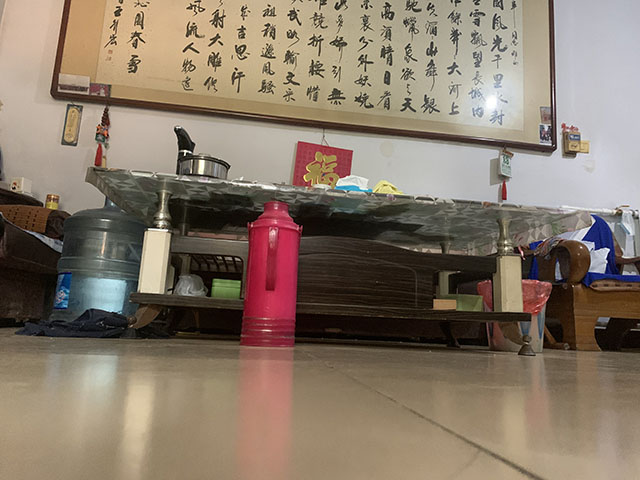sofa: (534, 214, 640, 352)
table: (83, 164, 596, 357)
trashcan: (476, 279, 553, 355)
